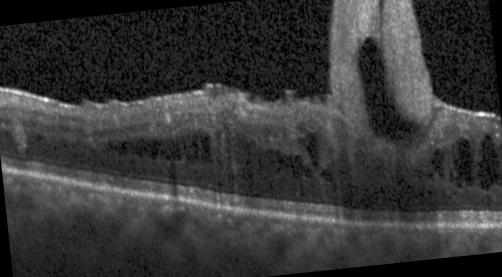intraretinal_cyst: (357, 37, 421, 146), (265, 148, 312, 179), (477, 133, 502, 191), (449, 137, 475, 190), (296, 132, 320, 167), (431, 149, 445, 178), (201, 137, 214, 163), (149, 139, 161, 159), (182, 140, 192, 162), (168, 144, 181, 160), (131, 141, 143, 158), (117, 141, 129, 156), (191, 140, 199, 161), (320, 170, 332, 182), (161, 149, 170, 159), (107, 143, 117, 150), (35, 133, 42, 141), (143, 146, 148, 152)
